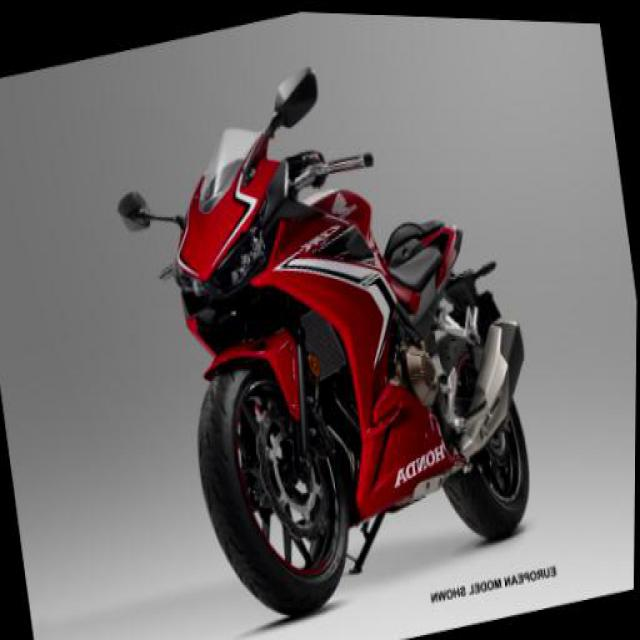CBR500R: (148, 47, 560, 638)
